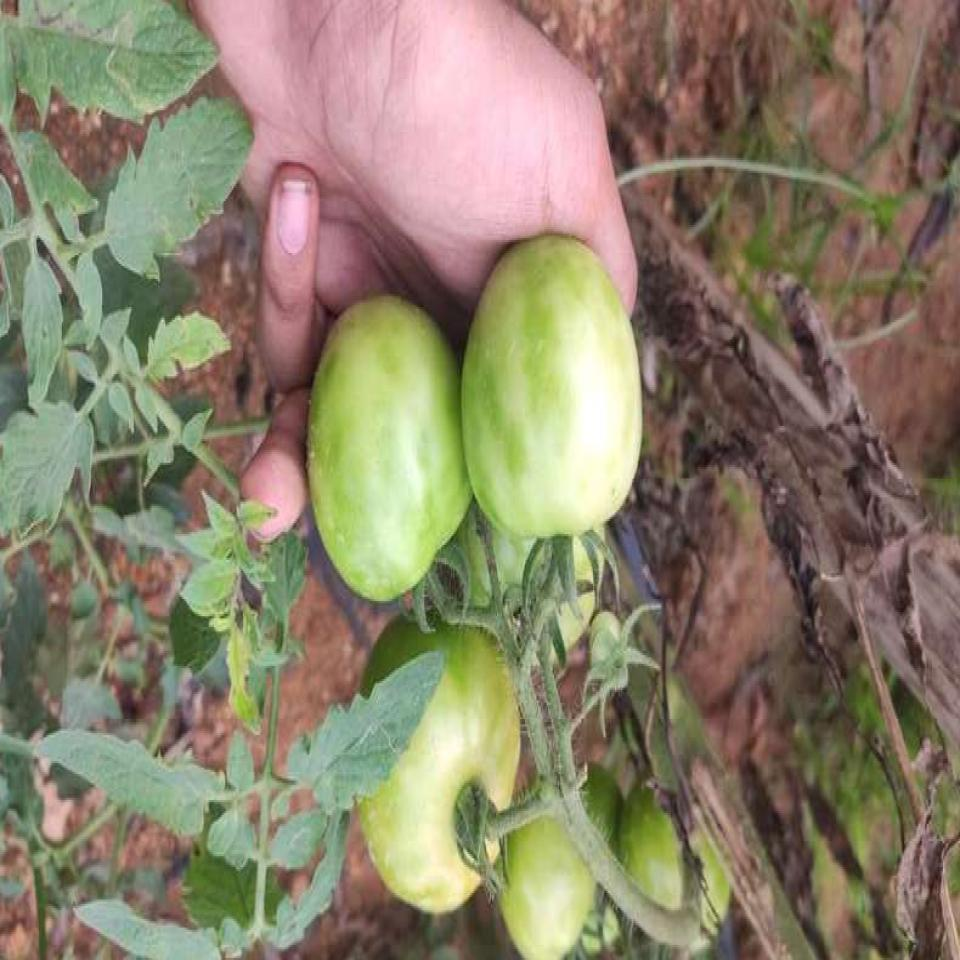Spotted wilt Virus: (459, 231, 642, 536), (306, 290, 471, 601), (354, 625, 519, 912)
